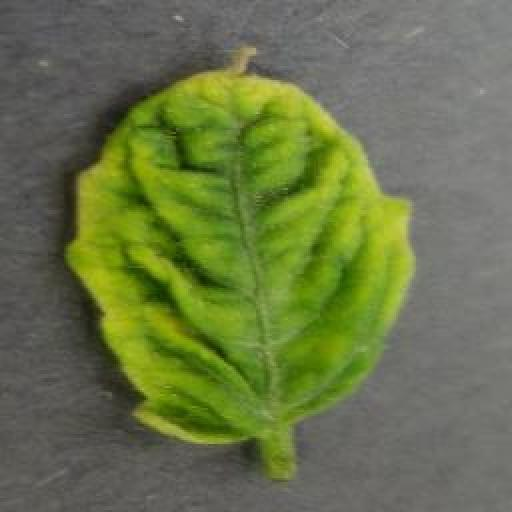disease_tomato: (67, 46, 415, 448)
